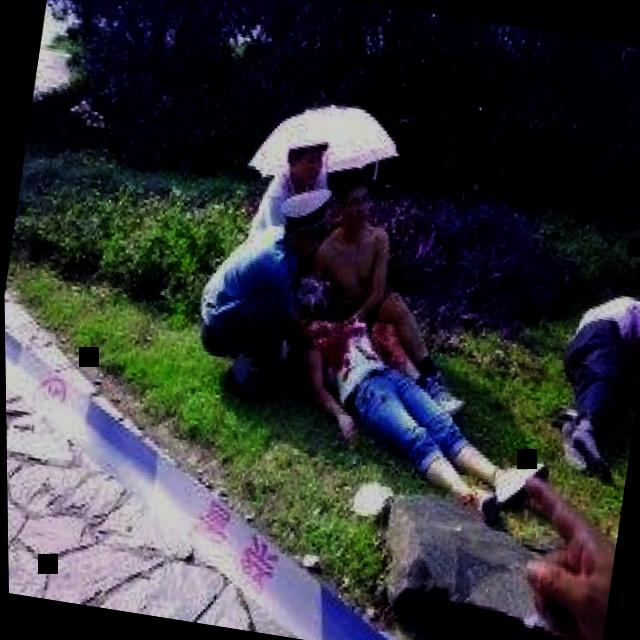Fall-Detected: (521, 261, 640, 483)
